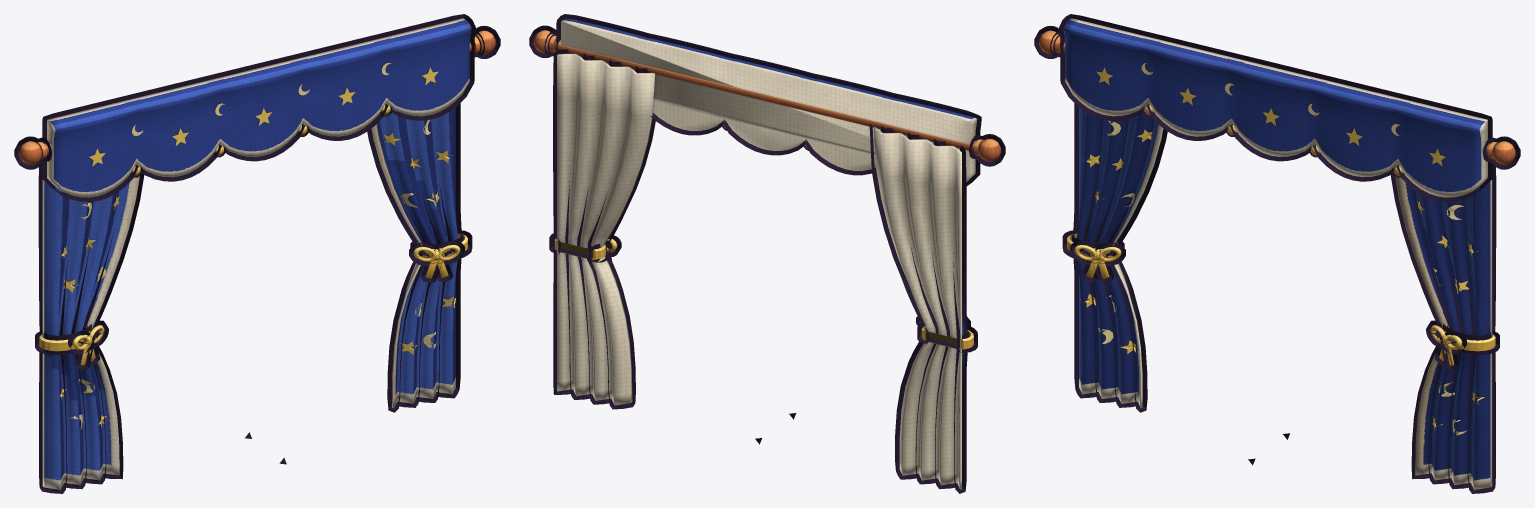
The model's file is Curtains.glb.
3 renders of one model, left to right at view 1: azimuth 30°, elevation 25°; view 2: azimuth 150°, elevation 25°; view 3: azimuth 330°, elevation 25°, orthographic.
Visible parts, largest first — view 1: Curtains, Curtains_Outline; view 2: Curtains, Curtains_Outline; view 3: Curtains, Curtains_Outline.
Part boxes in pixels (x1,y1,x2,y2): Curtains: [19, 18, 495, 489]; Curtains_Outline: [14, 14, 500, 493]; Curtains: [534, 18, 1000, 489]; Curtains_Outline: [529, 14, 1005, 493]; Curtains: [1039, 18, 1515, 489]; Curtains_Outline: [1034, 14, 1520, 493].
Size of the model in its own units: 8.01 by 6.04 by 1.11.
Materials: 2 (2 with a texture image).
